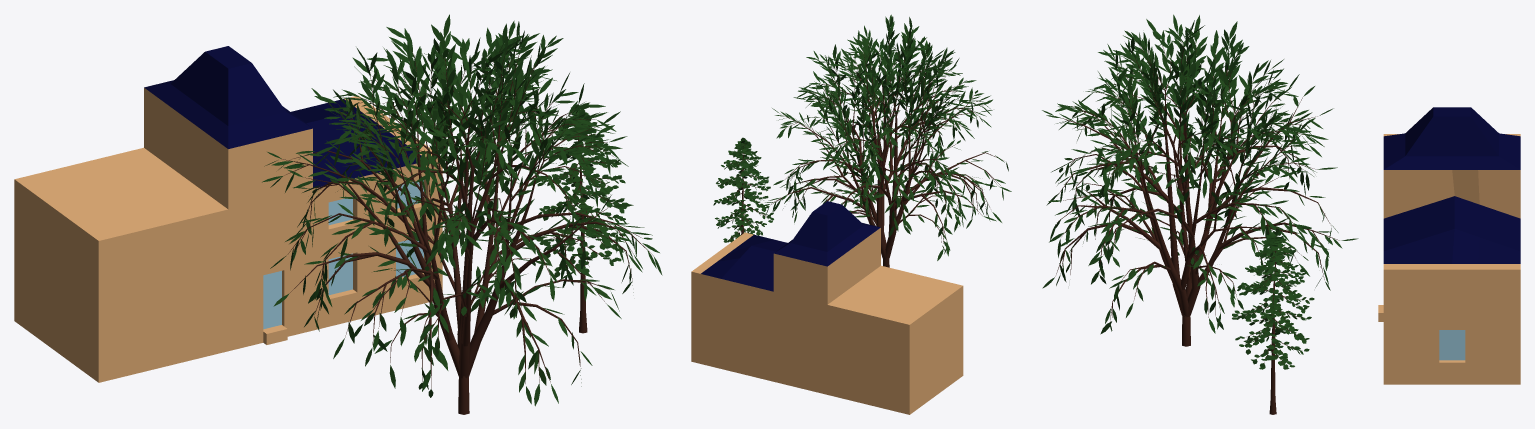
Rendered from lowpoly AE.gltf.
3 renders of one model, left to right at view 1: azimuth 30°, elevation 25°; view 2: azimuth 150°, elevation 25°; view 3: azimuth 270°, elevation 25°, orthographic. The views are drawn at different scales.
Parts seen in each view (by area): view 1: Plane, leaves, tree, leaves.001, tree.001; view 2: Plane, leaves, tree, leaves.001, tree.001; view 3: Plane, leaves, tree, leaves.001, tree.001.
Part boxes in pixels (x1,y1,x2,y2): Plane: (14,46,442,382); leaves: (262,14,662,406); tree: (281,44,653,414); leaves.001: (536,104,628,277); tree.001: (546,128,617,333); Plane: (691,201,963,414); leaves: (762,14,1011,260); tree: (771,31,1003,267); leaves.001: (713,137,773,242); tree.001: (719,144,767,238); Plane: (1378,107,1520,384); leaves: (1042,14,1358,334); tree: (1055,35,1339,346); leaves.001: (1232,228,1314,369); tree.001: (1239,236,1307,414).
Size of the model in its own units: 6.28 by 5.2 by 7.01.
